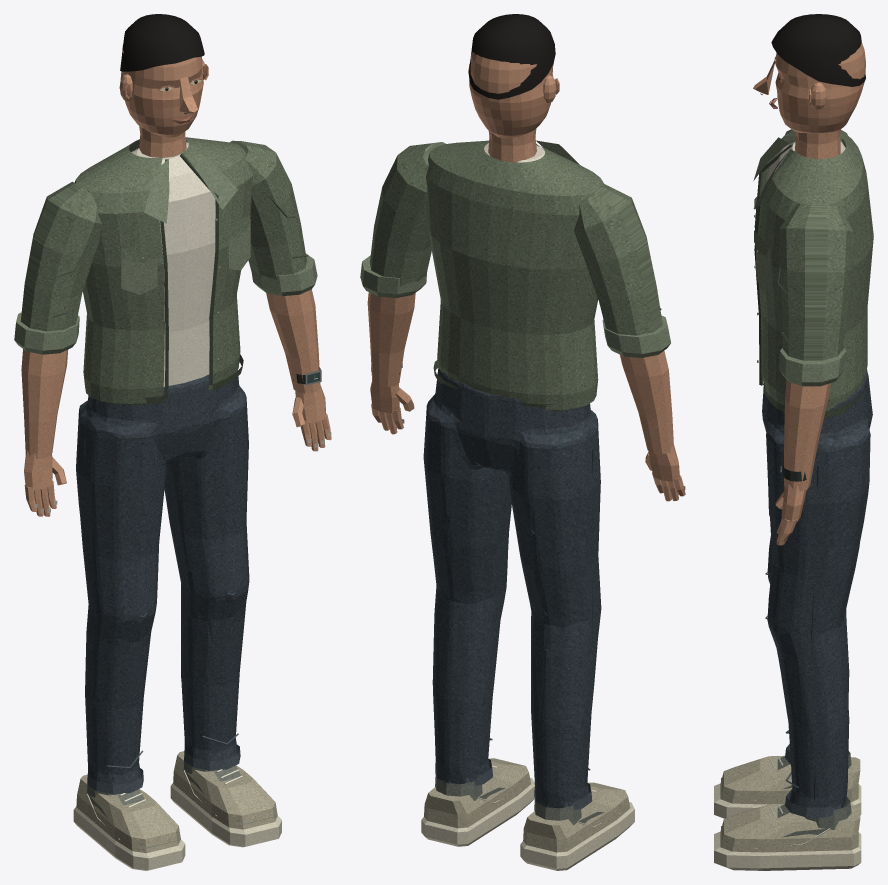
Rendered from casual-guy.glb.
The picture shows the model from 3 angles, left to right: view 1: azimuth 30°, elevation 25°; view 2: azimuth 150°, elevation 25°; view 3: azimuth 270°, elevation 25°; orthographic projection. The views are drawn at different scales.
Visible parts, largest first — view 1: Trousers | tailored continuous mesh, Overshirt | open body, Tee | fitted torso, Overshirt | sleeve R, Overshirt | sleeve L, Face | sculpted planes, Sneaker | suede upper L, Sneaker | suede upper R, Forearm R, Hair | tapered cap, Forearm L, Sneaker | outsole R (+14 smaller); view 2: Trousers | tailored continuous mesh, Overshirt | open body, Overshirt | sleeve R, Overshirt | sleeve L, Face | sculpted planes, Hair | tapered cap, Forearm R, Sneaker | suede upper R, Sneaker | suede upper L, Forearm L, Sneaker | outsole R, Sneaker | outsole L (+7 smaller); view 3: Trousers | tailored continuous mesh, Overshirt | open body, Overshirt | sleeve L, Sneaker | suede upper L, Hair | tapered cap, Face | sculpted planes, Forearm L, Sneaker | suede upper R, Sneaker | outsole L, Overshirt | rolled cuff L, Neck, Sneaker | outsole R (+8 smaller).
Part boxes in pixels (left/top/right/bottom): Trousers | tailored continuous mesh: left=76, top=374, right=249, bottom=784; Overshirt | open body: left=74, top=137, right=253, bottom=403; Tee | fitted torso: left=131, top=142, right=215, bottom=386; Overshirt | sleeve R: left=20, top=181, right=101, bottom=331; Overshirt | sleeve L: left=229, top=140, right=306, bottom=284; Face | sculpted planes: left=120, top=44, right=203, bottom=137; Sneaker | suede upper L: left=173, top=751, right=277, bottom=829; Sneaker | suede upper R: left=76, top=774, right=180, bottom=853; Forearm R: left=21, top=349, right=67, bottom=458; Hair | tapered cap: left=120, top=14, right=204, bottom=71; Forearm L: left=266, top=289, right=320, bottom=393; Sneaker | outsole R: left=73, top=807, right=185, bottom=870; Trousers | tailored continuous mesh: left=423, top=368, right=601, bottom=808; Overshirt | open body: left=426, top=140, right=603, bottom=410; Overshirt | sleeve R: left=573, top=184, right=662, bottom=335; Overshirt | sleeve L: left=370, top=142, right=445, bottom=295; Face | sculpted planes: left=469, top=51, right=553, bottom=138; Hair | tapered cap: left=468, top=14, right=555, bottom=99; Forearm R: left=620, top=351, right=673, bottom=454; Sneaker | suede upper R: left=523, top=782, right=630, bottom=852; Sneaker | suede upper L: left=424, top=758, right=530, bottom=828; Forearm L: left=367, top=292, right=415, bottom=387; Sneaker | outsole R: left=520, top=802, right=634, bottom=870; Sneaker | outsole L: left=421, top=778, right=534, bottom=846; Trousers | tailored continuous mesh: left=762, top=370, right=872, bottom=808; Overshirt | open body: left=759, top=130, right=873, bottom=410; Overshirt | sleeve L: left=779, top=203, right=853, bottom=360; Sneaker | suede upper L: left=720, top=804, right=860, bottom=852; Hair | tapered cap: left=771, top=14, right=865, bottom=86; Face | sculpted planes: left=775, top=42, right=865, bottom=133; Forearm L: left=784, top=380, right=831, bottom=491; Sneaker | suede upper R: left=720, top=755, right=860, bottom=804; Sneaker | outsole L: left=714, top=832, right=861, bottom=870; Overshirt | rolled cuff L: left=779, top=348, right=846, bottom=386; Neck: left=795, top=129, right=841, bottom=159; Sneaker | outsole R: left=714, top=783, right=861, bottom=818.
Bounding box in the file's own units: 0.704 × 1.79 × 0.3172.
Materials: 25 (12 with a texture image).
